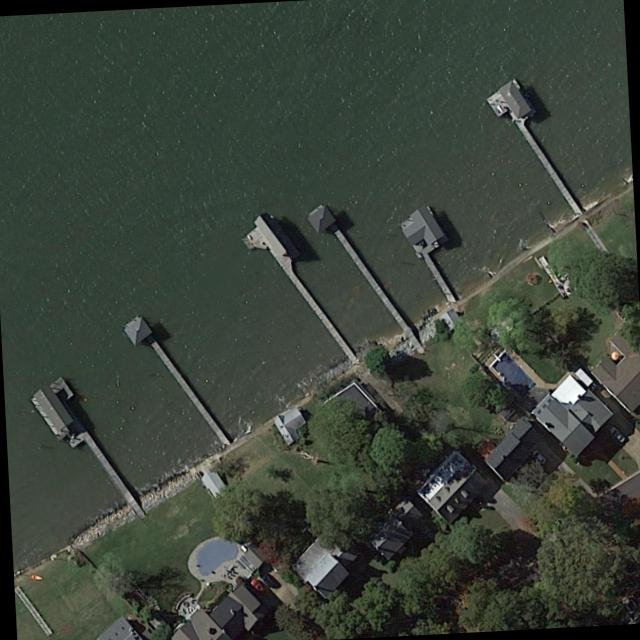ship: (29, 575, 42, 582)
small-vehicle: (258, 569, 277, 589), (248, 578, 265, 593), (609, 428, 624, 443), (532, 450, 546, 464)
